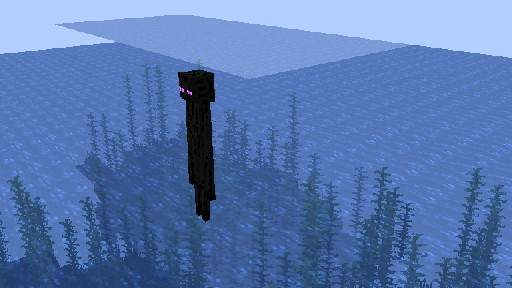enderman: (177, 68, 215, 221)
